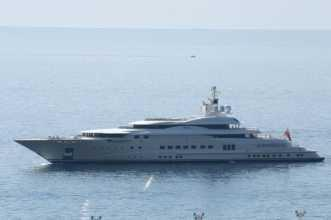yacht: (16, 89, 323, 167)
